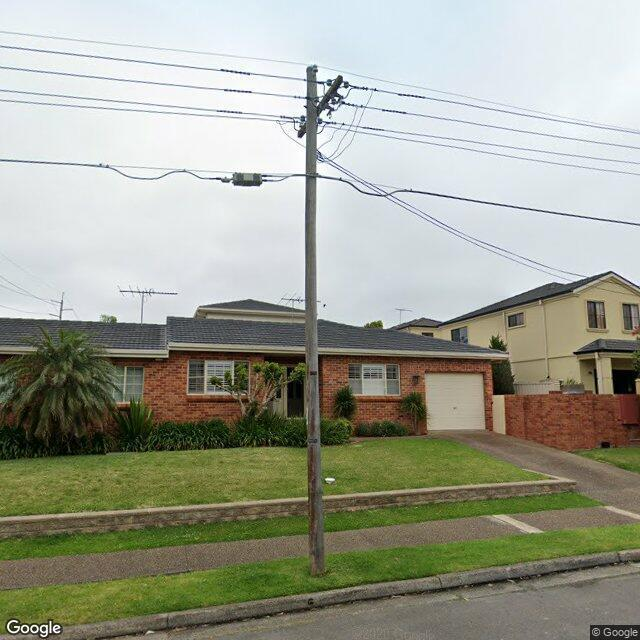crossarm: (297, 75, 344, 138)
timber-pole: (305, 64, 324, 576)
